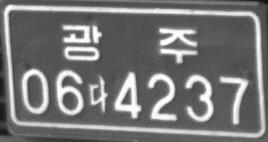0: (20, 67, 50, 115)
2: (147, 72, 178, 121)
3: (183, 73, 215, 123)
4: (114, 71, 142, 119)
6: (54, 68, 85, 116)
7: (219, 74, 249, 126)
광주_D: (62, 23, 199, 64)
다: (88, 74, 108, 113)
